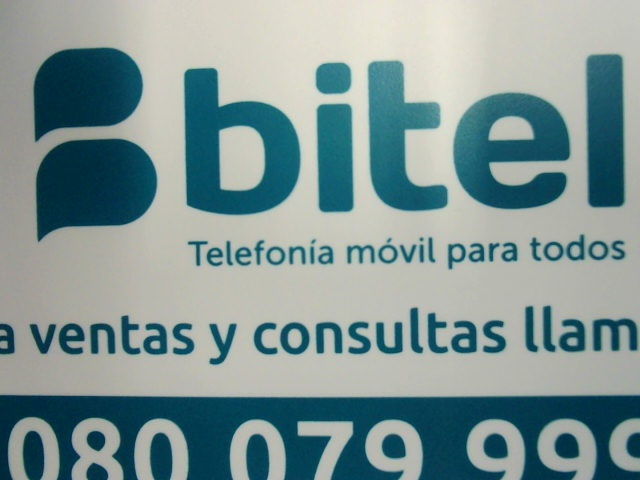BE_bitel: (28, 43, 630, 240)
